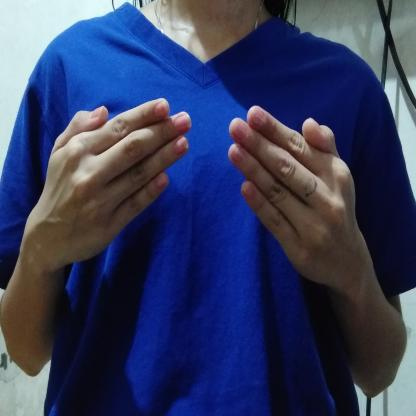night: (22, 98, 369, 297)
